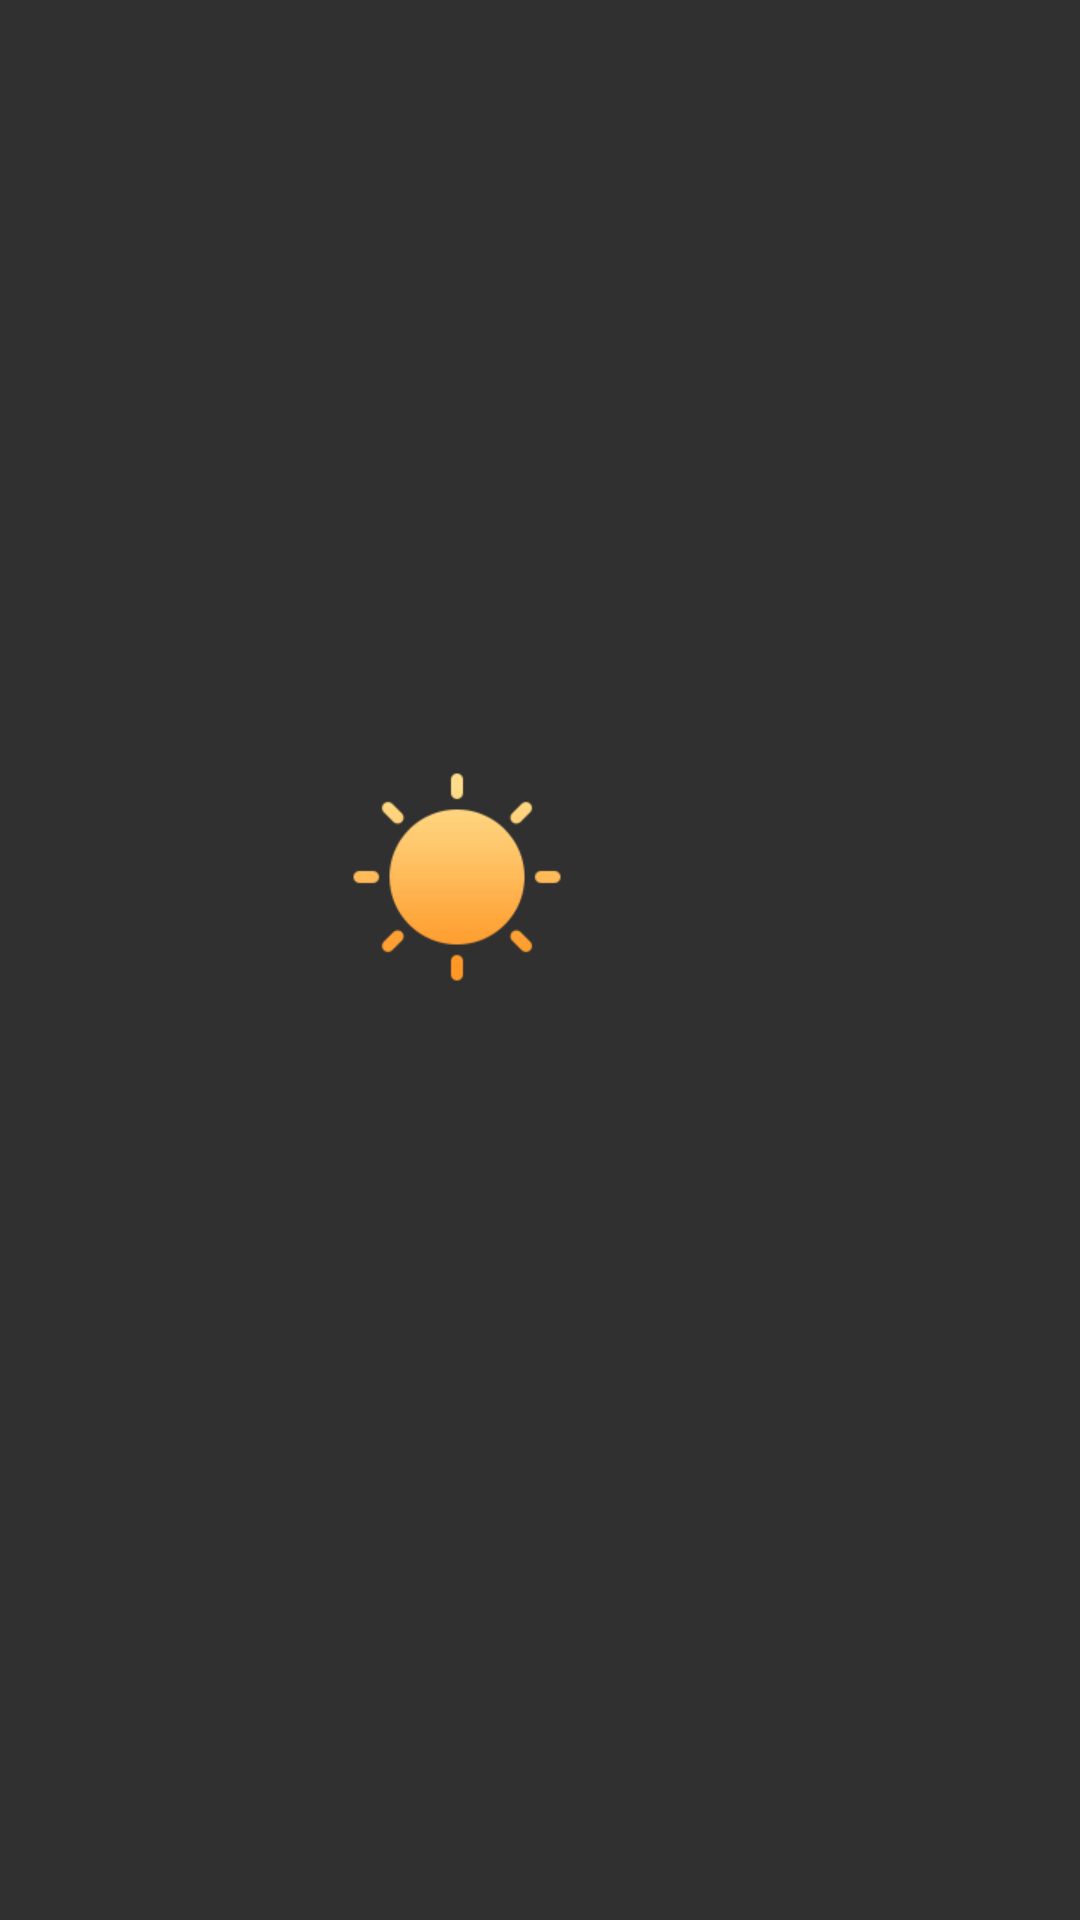

Screen size 1080*1920. Icon name, then its center in pixels as [x,y]:
weather fine: [457,877]
